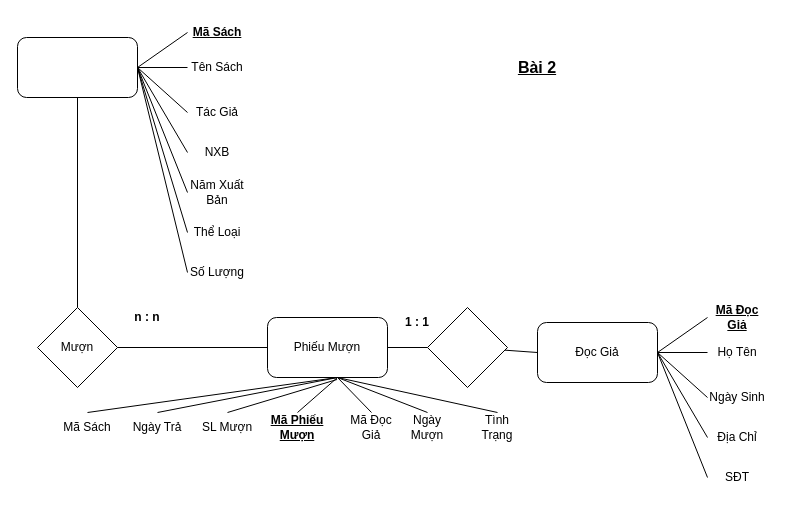
This 785x509 diagram has some shape labels left out. The centre of each missing label's shape, as x and y in pixels:
"Sách" goes at (77,67).
"Sở Hữu" goes at (467,347).
